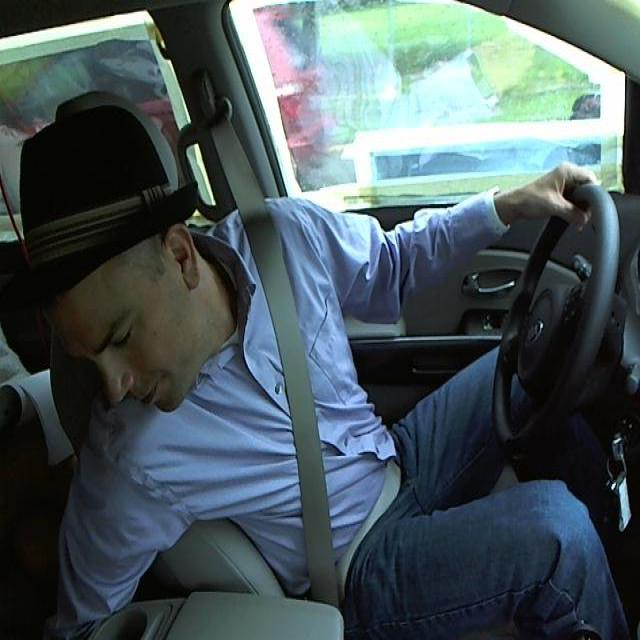seatbelt: (228, 232, 389, 592)
